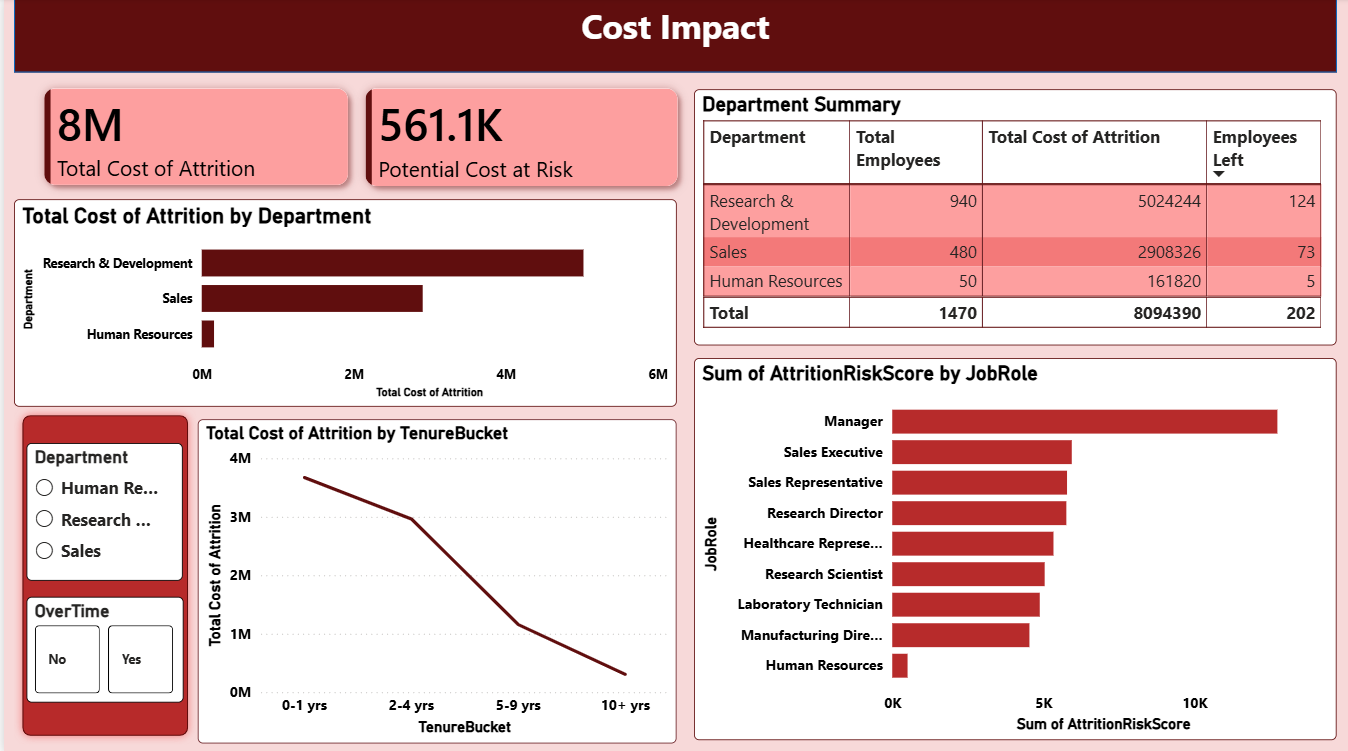

The page's visual inventory and layout, read from the dashboard file:
{"tool":"powerbi","page":{"name":"Cost Impact","canvas":[1280,720],"ordinal":2},"visuals":[{"type":"cardVisual","fields":{"Data":["EmployeeData.Potential Cost at Risk"]},"box":[315.5,57.1,356,151.2],"z":0},{"type":"shape","box":[10.1,0,1260,71],"z":1000},{"type":"textbox","box":[9.6,0,1259.6,61.1],"z":2000},{"type":"cardVisual","fields":{"Data":["EmployeeData.Total Cost of Attrition"]},"box":[10.1,57.7,347.7,150],"z":3000},{"type":"clusteredBarChart","fields":{"Category":["EmployeeData.JobRole"],"Y":["Sum(EmployeeData.AttritionRiskScore)"]},"box":[657.5,342.6,611.7,364.3],"z":4000},{"type":"clusteredBarChart","fields":{"Category":["EmployeeData.Department"],"Y":["EmployeeData.Total Cost of Attrition"]},"box":[9.5,191.7,631,197.6],"z":5000},{"type":"tableEx","title":"Department Summary","fields":{"Values":["EmployeeData.Department","EmployeeData.Total Employees","EmployeeData.Total Cost of Attrition","EmployeeData.Employees Left"]},"box":[657.5,86.9,611.7,243.7],"z":6000},{"type":"shape","box":[9.5,389.3,173.8,321.4],"z":7000},{"type":"listSlicer","fields":{"Values":["EmployeeData.Department"]},"box":[21.4,423.8,148.8,131],"z":8000},{"type":"advancedSlicerVisual","fields":{"Values":["EmployeeData.OverTime"]},"box":[21.3,570.3,149.3,101],"z":8001},{"type":"lineChart","fields":{"Category":["EmployeeData.TenureBucket"],"Y":["EmployeeData.Total Cost of Attrition"]},"box":[184.7,401.1,455.9,308.8],"z":8002}]}

Visuals, with their boxes in screenshot pixels (x1, y1, x2, y2), scaled from the page's 1280x720 canvas onto the 1348x751 screenshot:
cardVisual - EmployeeData.Potential Cost at Risk: BBox(332, 60, 707, 217)
shape: BBox(11, 0, 1338, 74)
textbox: BBox(10, 0, 1337, 64)
cardVisual - EmployeeData.Total Cost of Attrition: BBox(11, 60, 377, 217)
clusteredBarChart - EmployeeData.JobRole x Sum(EmployeeData.AttritionRiskScore): BBox(692, 357, 1337, 737)
clusteredBarChart - EmployeeData.Department x EmployeeData.Total Cost of Attrition: BBox(10, 200, 675, 406)
"Department Summary" tableEx: BBox(692, 91, 1337, 345)
shape: BBox(10, 406, 193, 741)
listSlicer - EmployeeData.Department: BBox(23, 442, 179, 579)
advancedSlicerVisual - EmployeeData.OverTime: BBox(22, 595, 180, 700)
lineChart - EmployeeData.TenureBucket x EmployeeData.Total Cost of Attrition: BBox(195, 418, 675, 740)
